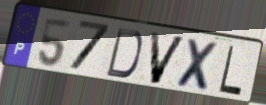5: (36, 15, 71, 70)
7: (69, 18, 113, 76)
D: (103, 27, 144, 81)
L: (217, 44, 244, 98)
V: (148, 30, 189, 87)
X: (174, 36, 222, 94)
